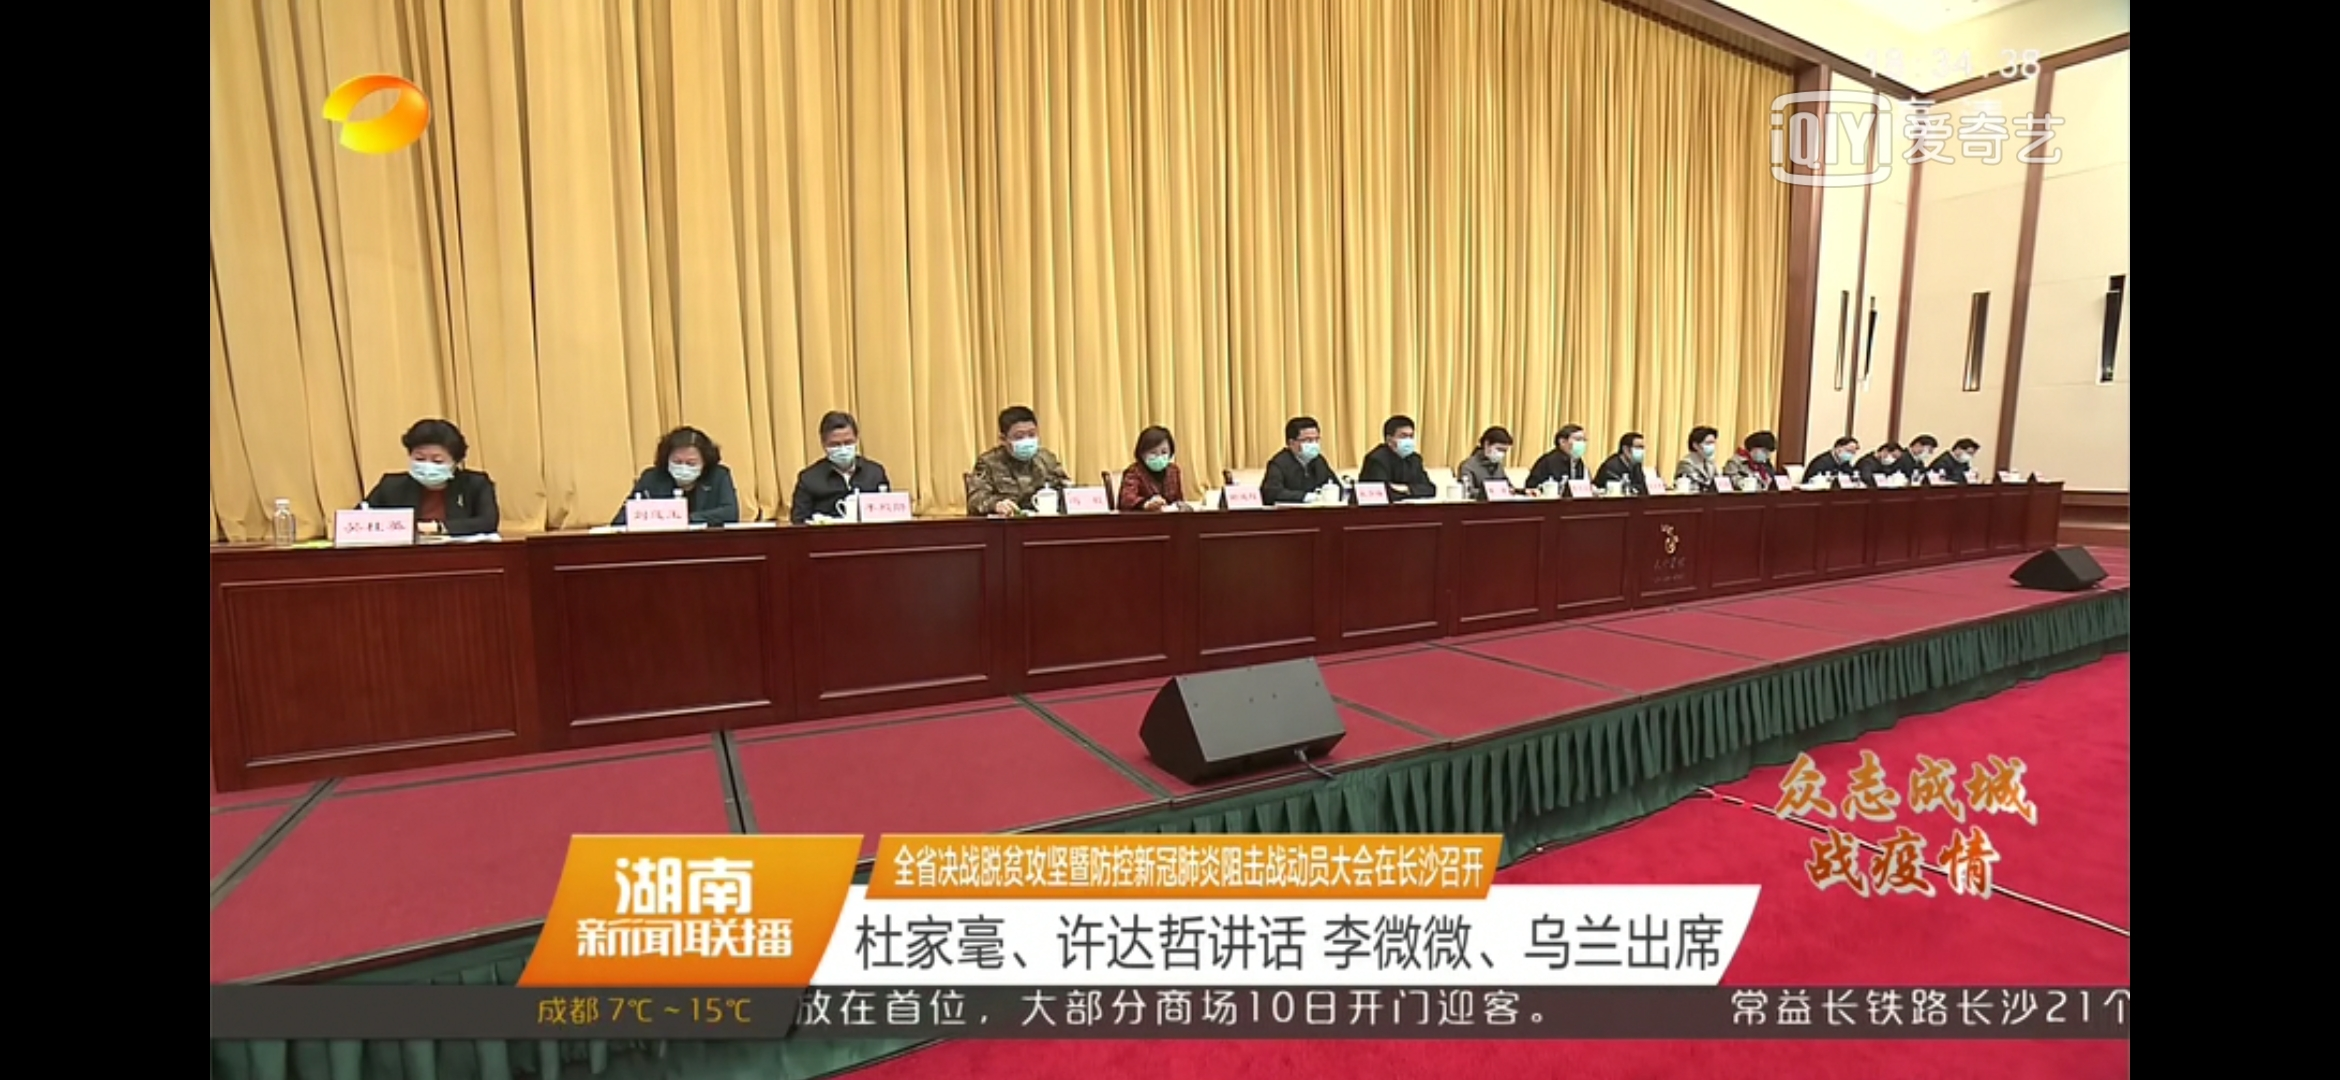correctlyWear: (407, 448, 463, 492), (822, 430, 860, 467), (669, 446, 703, 485), (1004, 427, 1039, 461), (1289, 434, 1322, 462), (1560, 430, 1588, 462), (1145, 446, 1171, 474), (1386, 430, 1415, 456), (1621, 442, 1645, 467), (1692, 436, 1716, 459), (1754, 443, 1773, 462), (1837, 442, 1856, 461), (1880, 448, 1898, 465), (1915, 445, 1936, 459), (1958, 443, 1973, 462)
